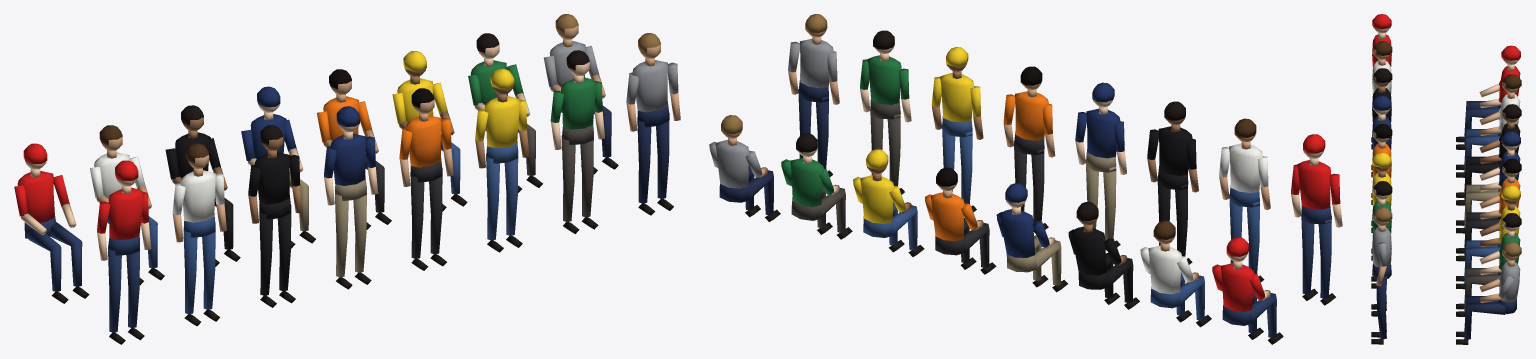
The model's file is crowd.glb.
The picture shows the model from 3 angles, left to right: view 1: azimuth 30°, elevation 25°; view 2: azimuth 150°, elevation 25°; view 3: azimuth 270°, elevation 25°; orthographic projection. The views are drawn at different scales.
Parts seen in each view (by area): view 1: idle-7, idle-5, idle-4, idle-2, idle-1, idle-3, idle-6, idle-0, sit-0, sit-2, sit-3, sit-7 (+4 smaller); view 2: idle-0, idle-3, idle-4, idle-5, idle-1, idle-6, idle-7, idle-2, sit-3, sit-5, sit-2, sit-0 (+4 smaller); view 3: sit-7, idle-7, sit-1, sit-6, sit-0, sit-3, sit-5, sit-2, sit-4, idle-5, idle-6, idle-4 (+4 smaller).
Part boxes in pixels (bbox=[...]): idle-7: bbox=[626, 33, 680, 215]; idle-5: bbox=[475, 68, 529, 252]; idle-4: bbox=[399, 88, 453, 270]; idle-2: bbox=[248, 125, 302, 307]; idle-1: bbox=[172, 143, 226, 326]; idle-3: bbox=[324, 106, 378, 289]; idle-6: bbox=[550, 50, 604, 233]; idle-0: bbox=[97, 160, 151, 344]; sit-0: bbox=[14, 143, 89, 303]; sit-2: bbox=[165, 105, 240, 266]; sit-3: bbox=[241, 86, 315, 248]; sit-7: bbox=[543, 14, 618, 174]; idle-0: bbox=[1291, 134, 1342, 305]; idle-3: bbox=[1075, 82, 1126, 250]; idle-4: bbox=[1003, 66, 1055, 233]; idle-5: bbox=[931, 47, 983, 212]; idle-1: bbox=[1219, 118, 1270, 282]; idle-6: bbox=[860, 30, 911, 194]; idle-7: bbox=[788, 14, 839, 176]; idle-2: bbox=[1147, 101, 1198, 264]; sit-3: bbox=[996, 183, 1067, 292]; sit-5: bbox=[853, 149, 924, 256]; sit-2: bbox=[1068, 202, 1139, 309]; sit-0: bbox=[1212, 237, 1283, 344]; sit-7: bbox=[1456, 242, 1521, 344]; idle-7: bbox=[1371, 207, 1392, 344]; sit-1: bbox=[1456, 74, 1521, 177]; sit-6: bbox=[1456, 213, 1521, 316]; sit-0: bbox=[1456, 45, 1520, 149]; sit-3: bbox=[1456, 131, 1520, 233]; sit-5: bbox=[1456, 185, 1520, 289]; sit-2: bbox=[1456, 104, 1521, 205]; sit-4: bbox=[1456, 158, 1521, 261]; idle-5: bbox=[1371, 152, 1391, 288]; idle-6: bbox=[1371, 181, 1392, 316]; idle-4: bbox=[1371, 124, 1392, 260].
Size of the model in its own units: 6.15 by 1.78 by 1.83.
